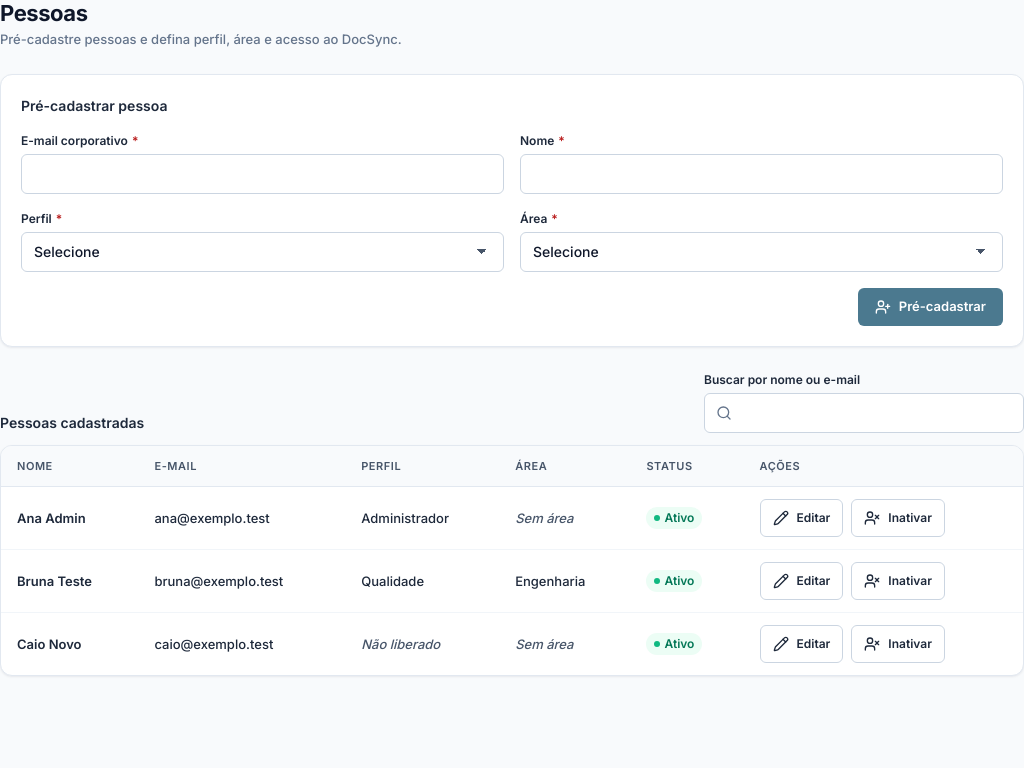
Scenario: TelaPessoas › inativa com diálogo customizado e mostra o erro do último administrador em pt-BR
Click the button with aria-label "Inativar Ana Admin" at x=898, y=518, box [851,499,945,537]
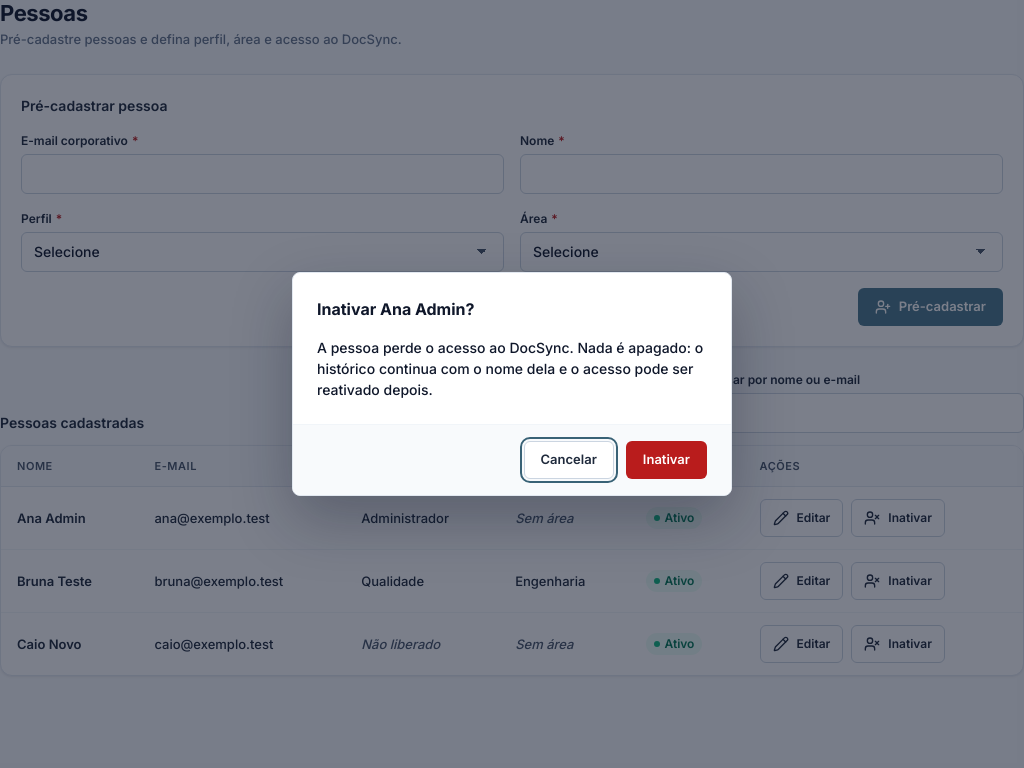
Click the button "Inativar" at x=666, y=460, box [626,441,707,479]
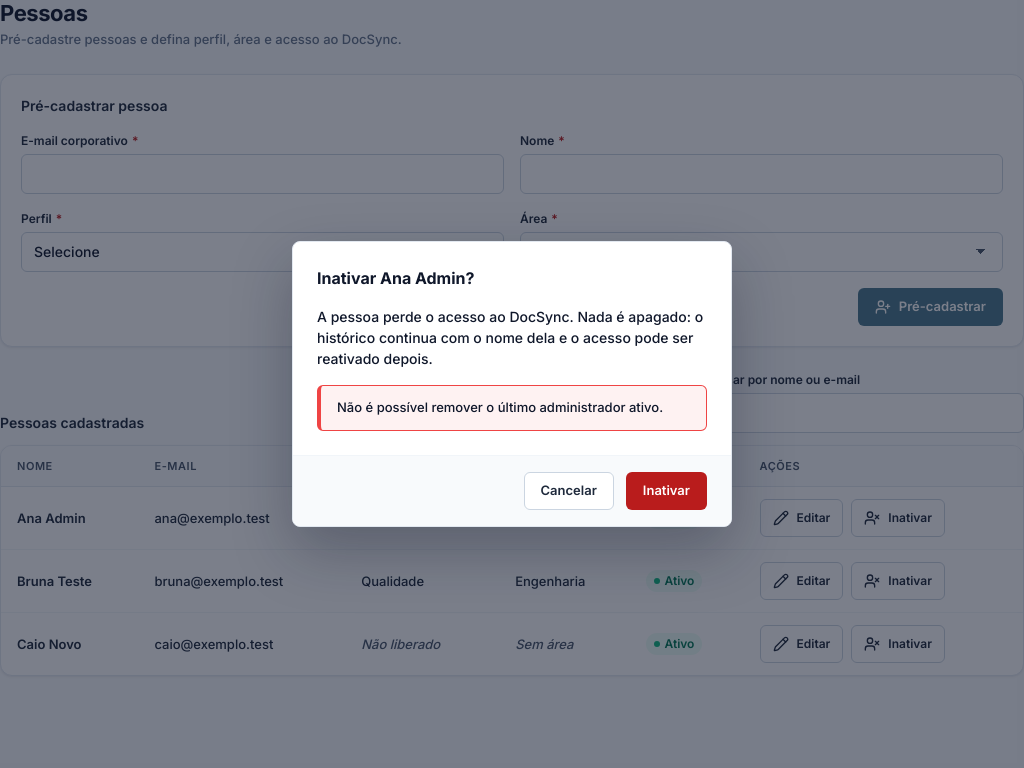
Expected: the message reads "Não é possível remover o último administrador ativo.", [337,399,663,415]
